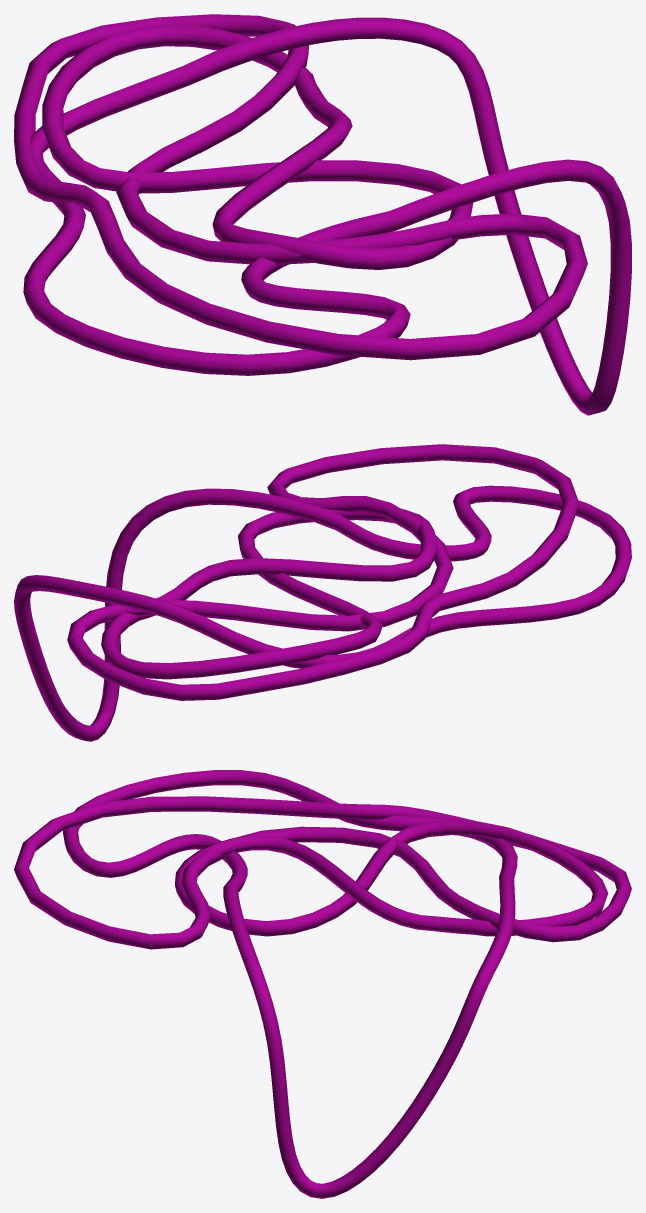
The model's file is cavo_90_gradi.fbx.
3 views of the same model, one above another, from view 1: azimuth 30°, elevation 25°; view 2: azimuth 150°, elevation 25°; view 3: azimuth 270°, elevation 25° (orthographic). The views are drawn at different scales.
Visible parts, largest first — view 1: polySurface12; view 2: polySurface12; view 3: polySurface12.
Part boxes in pixels (<box>): polySurface12: <box>14,14,631,415</box>; polySurface12: <box>14,444,631,741</box>; polySurface12: <box>14,770,631,1198</box>.
Size of the model in its own units: 3.38 by 1.7 by 4.02.
